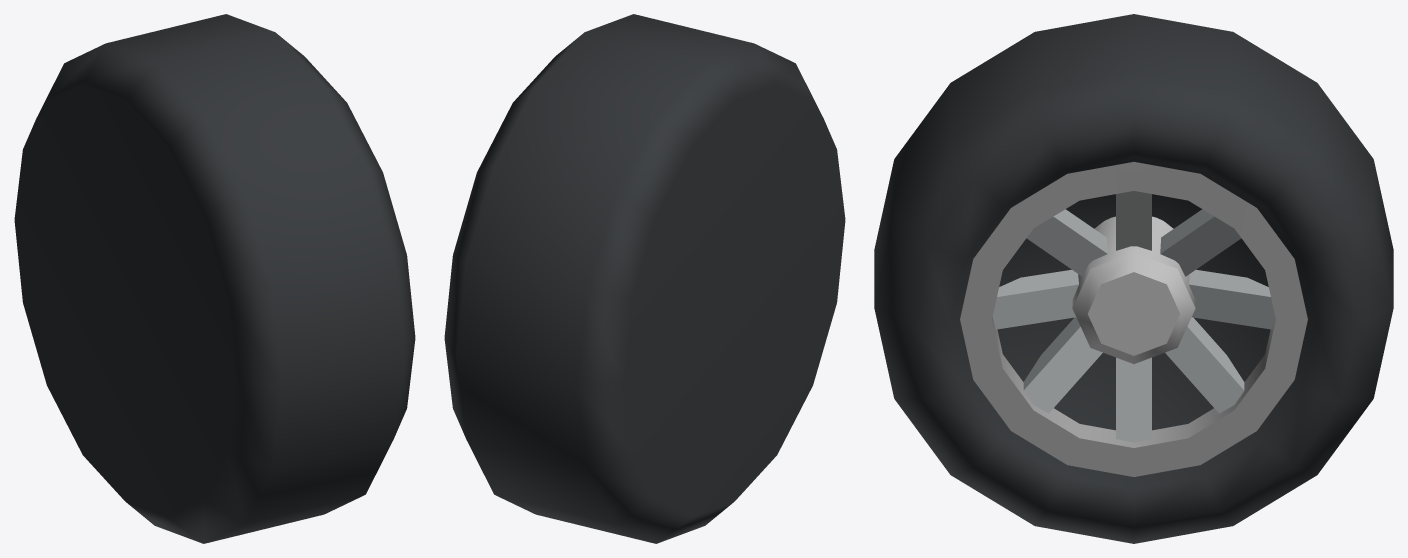
The model's file is Car_06_Wheel_Rear_Left.fbx.
The picture shows the model from 3 angles, left to right: view 1: azimuth 30°, elevation 25°; view 2: azimuth 150°, elevation 25°; view 3: azimuth 270°, elevation 25°; orthographic projection.
Parts seen in each view (by area): view 1: Car_06_Wheel_Rear_Left; view 2: Car_06_Wheel_Rear_Left; view 3: Car_06_Wheel_Rear_Left.
Boxes of the visible parts, x1=… form: Car_06_Wheel_Rear_Left: x1=14, y1=14, x2=415, y2=543; Car_06_Wheel_Rear_Left: x1=444, y1=14, x2=845, y2=543; Car_06_Wheel_Rear_Left: x1=874, y1=14, x2=1393, y2=543.
Bounding box in the file's own units: 32.42 × 80 × 80.
